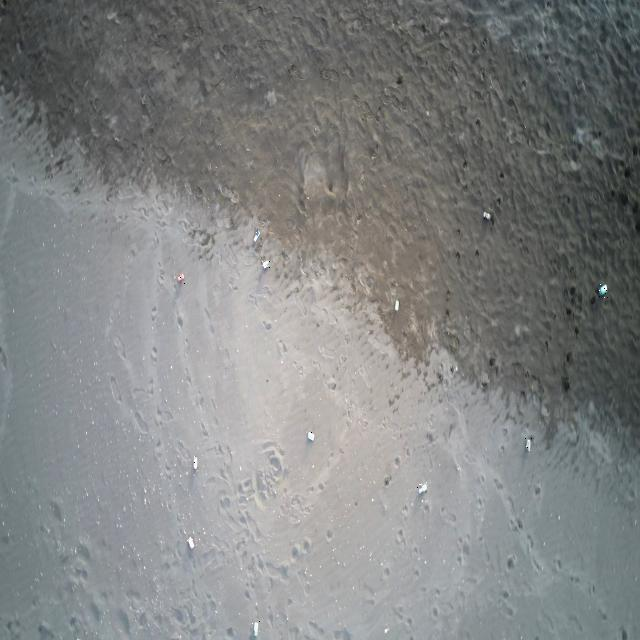tin-and-aluminum-cans: (597, 283, 608, 298), (252, 620, 260, 639), (416, 482, 426, 496), (187, 534, 195, 550), (525, 436, 532, 454), (306, 430, 316, 442), (176, 272, 186, 284), (253, 228, 261, 242), (483, 210, 492, 222), (262, 259, 270, 272), (394, 298, 400, 312), (193, 456, 198, 472)
